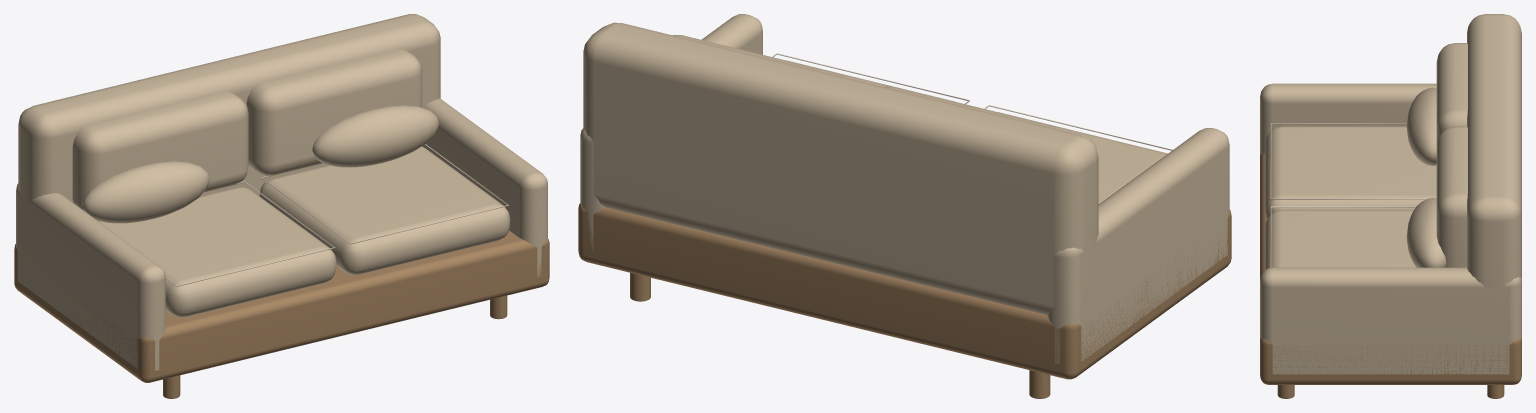
3 renders of one model, left to right at view 1: azimuth 30°, elevation 25°; view 2: azimuth 150°, elevation 25°; view 3: azimuth 270°, elevation 25°, orthographic. The views are drawn at different scales.
Parts seen in each view (by area): view 1: base, back, seat_1, seat_0, arm_-1, cushion_1, cushion_0, arm_1, pillow_-1, pillow_1, seam_seat_1, seam_seat_0; view 2: back, base, arm_-1, arm_1, seat_0, cushion_0, leg_-1_-1; view 3: arm_1, back, seat_0, seat_1, arm_-1, base, cushion_1, cushion_0, pillow_1, pillow_-1, seam_seat_0, seam_seat_1 (+2 smaller).
Boxes of the visible parts, x1=… form: base: x1=14, y1=230, x2=549, y2=382; back: x1=18, y1=14, x2=440, y2=221; seat_1: x1=259, y1=146, x2=510, y2=274; seat_0: x1=99, y1=187, x2=336, y2=317; arm_-1: x1=16, y1=183, x2=165, y2=370; cushion_1: x1=246, y1=49, x2=422, y2=175; cushion_0: x1=72, y1=91, x2=248, y2=210; arm_1: x1=422, y1=98, x2=547, y2=277; pillow_-1: x1=82, y1=161, x2=209, y2=223; pillow_1: x1=312, y1=105, x2=439, y2=167; seam_seat_1: x1=260, y1=144, x2=508, y2=244; seam_seat_0: x1=165, y1=181, x2=335, y2=286; back: x1=583, y1=22, x2=1098, y2=314; base: x1=578, y1=203, x2=1231, y2=379; arm_-1: x1=1047, y1=128, x2=1229, y2=364; arm_1: x1=580, y1=14, x2=762, y2=250; seat_0: x1=998, y1=112, x2=1167, y2=203; cushion_0: x1=885, y1=86, x2=1066, y2=131; leg_-1_-1: x1=1029, y1=370, x2=1050, y2=398; arm_1: x1=1260, y1=267, x2=1521, y2=374; back: x1=1467, y1=14, x2=1521, y2=328; seat_0: x1=1265, y1=126, x2=1436, y2=220; seat_1: x1=1265, y1=210, x2=1415, y2=269; arm_-1: x1=1260, y1=83, x2=1436, y2=155; base: x1=1260, y1=153, x2=1521, y2=384; cushion_1: x1=1436, y1=126, x2=1467, y2=267; cushion_0: x1=1436, y1=43, x2=1467, y2=144; pillow_1: x1=1406, y1=198, x2=1446, y2=267; pillow_-1: x1=1406, y1=87, x2=1436, y2=165; seam_seat_0: x1=1270, y1=123, x2=1427, y2=199; seam_seat_1: x1=1270, y1=206, x2=1416, y2=267.
Bounding box in the file's own units: 1.6 × 0.8 × 0.9.
